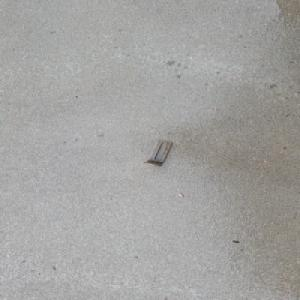MetalPart: (141, 139, 173, 166)
